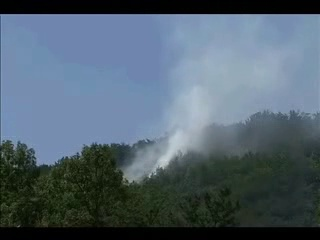smoke: (179, 12, 274, 161), (108, 99, 194, 184)
